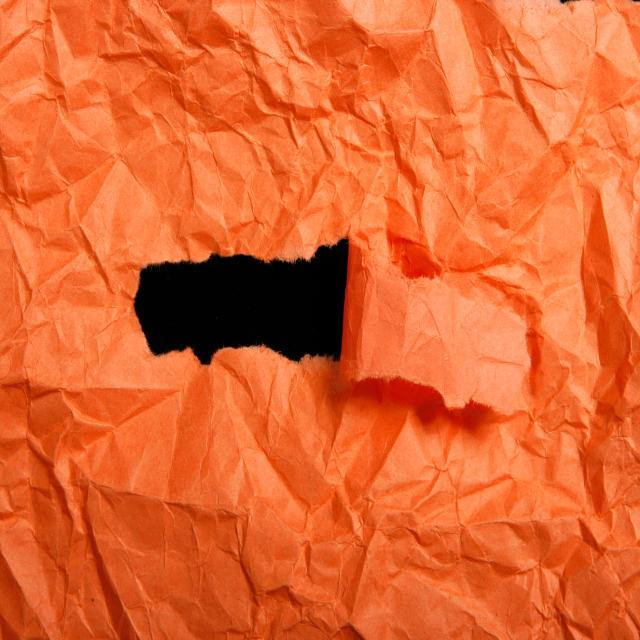paper: (367, 104, 544, 467)
